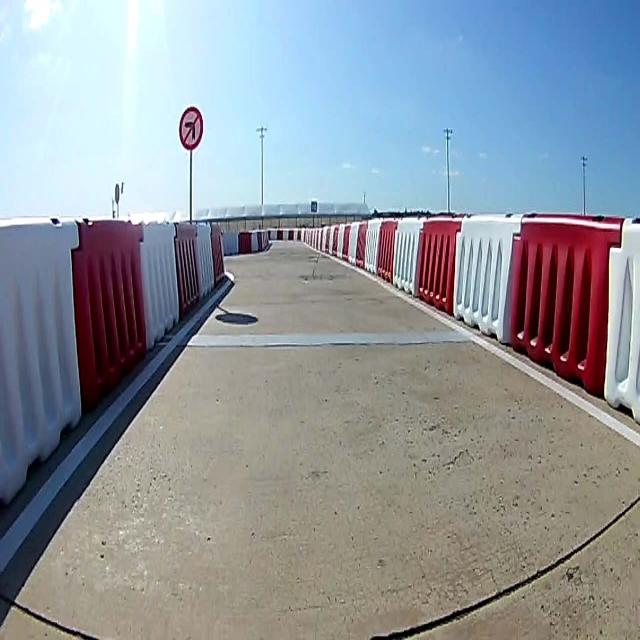soladonulmez: (178, 102, 204, 151)
